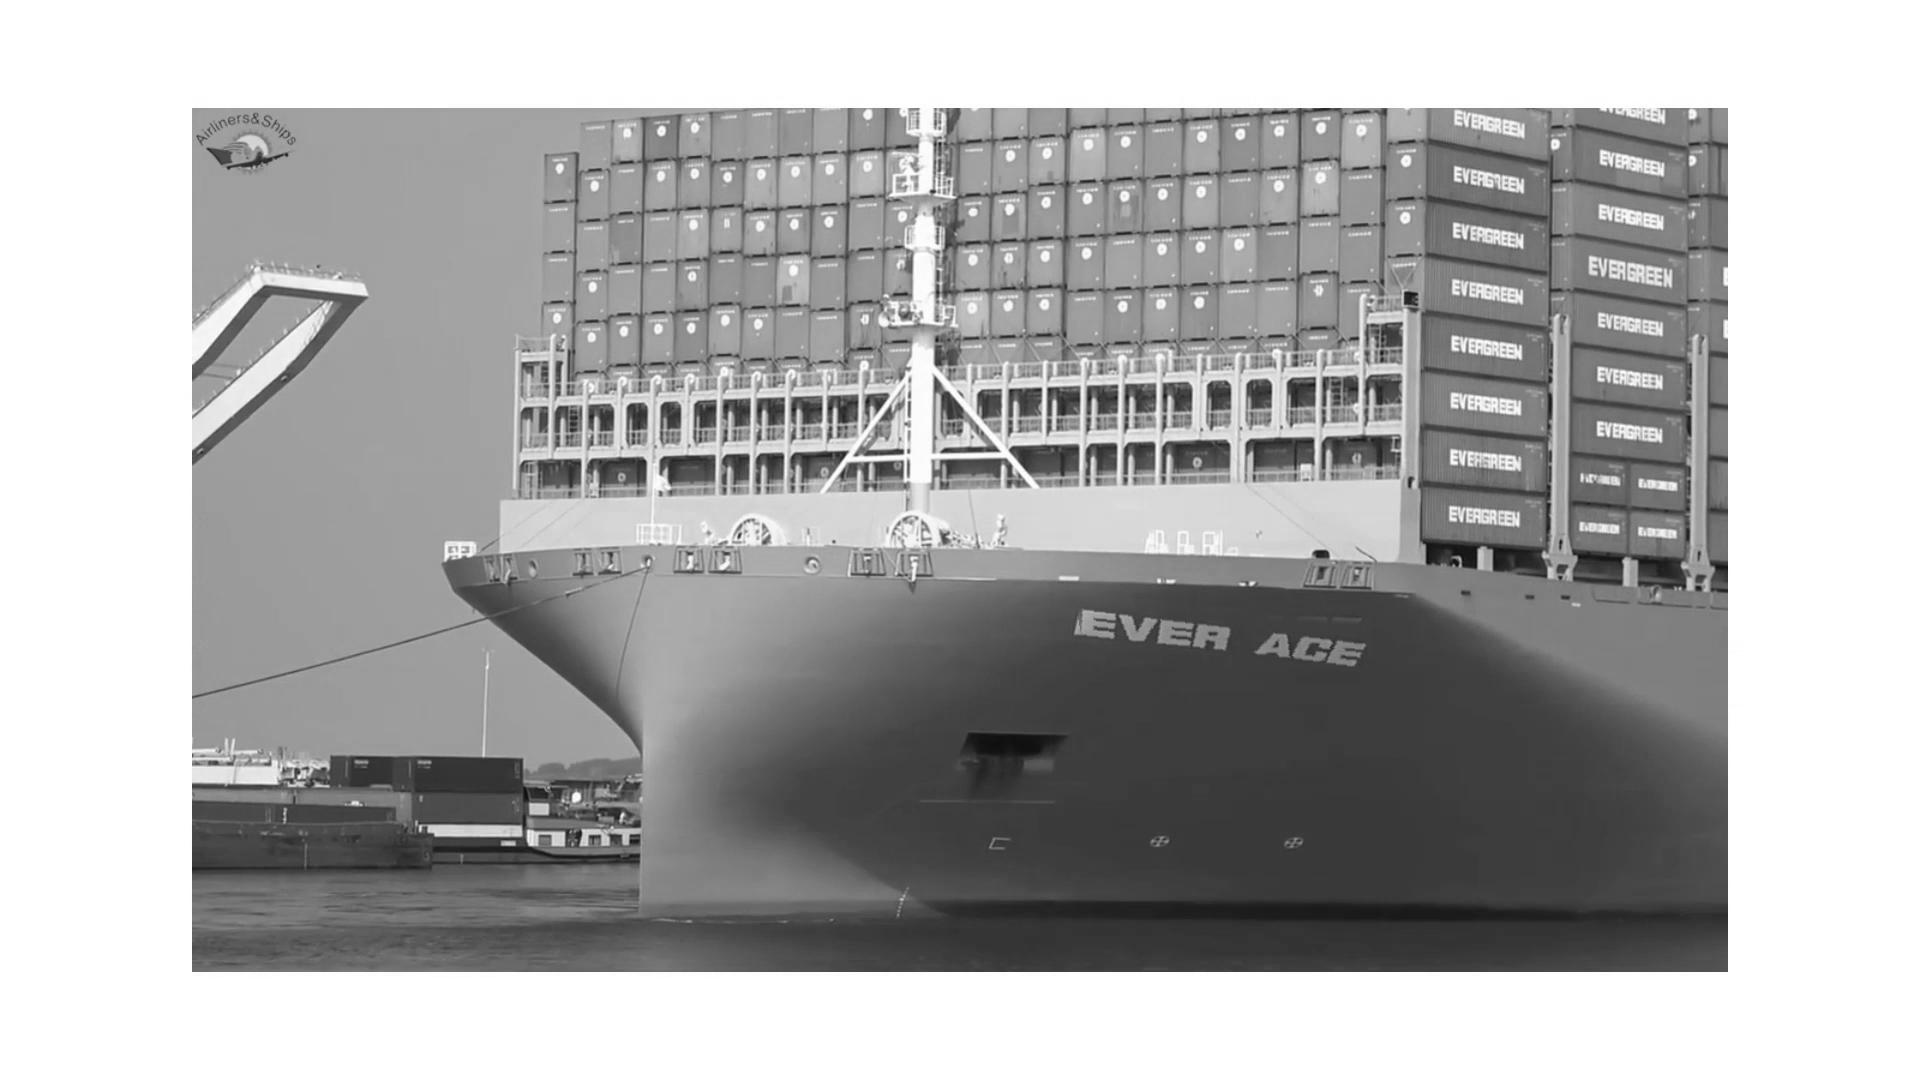OCR: (1073, 593, 1373, 667)
